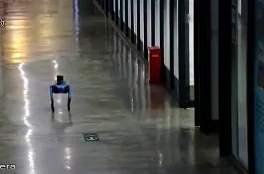robot dog: (48, 74, 74, 114)
